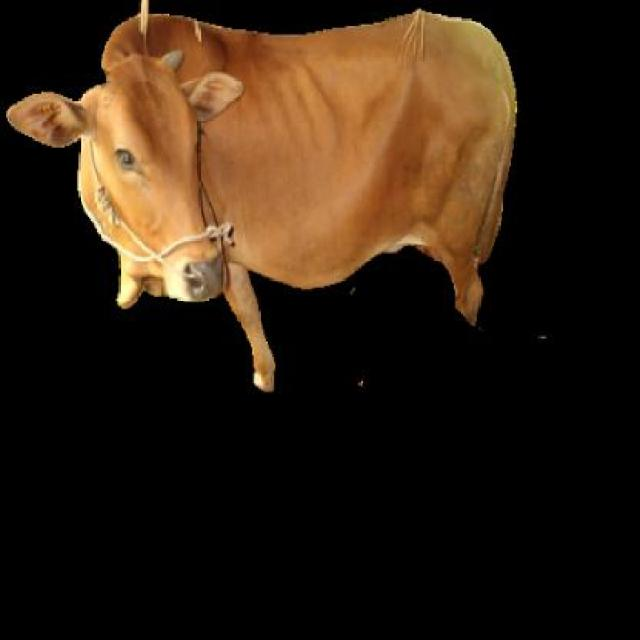Cow: (8, 11, 523, 394)
